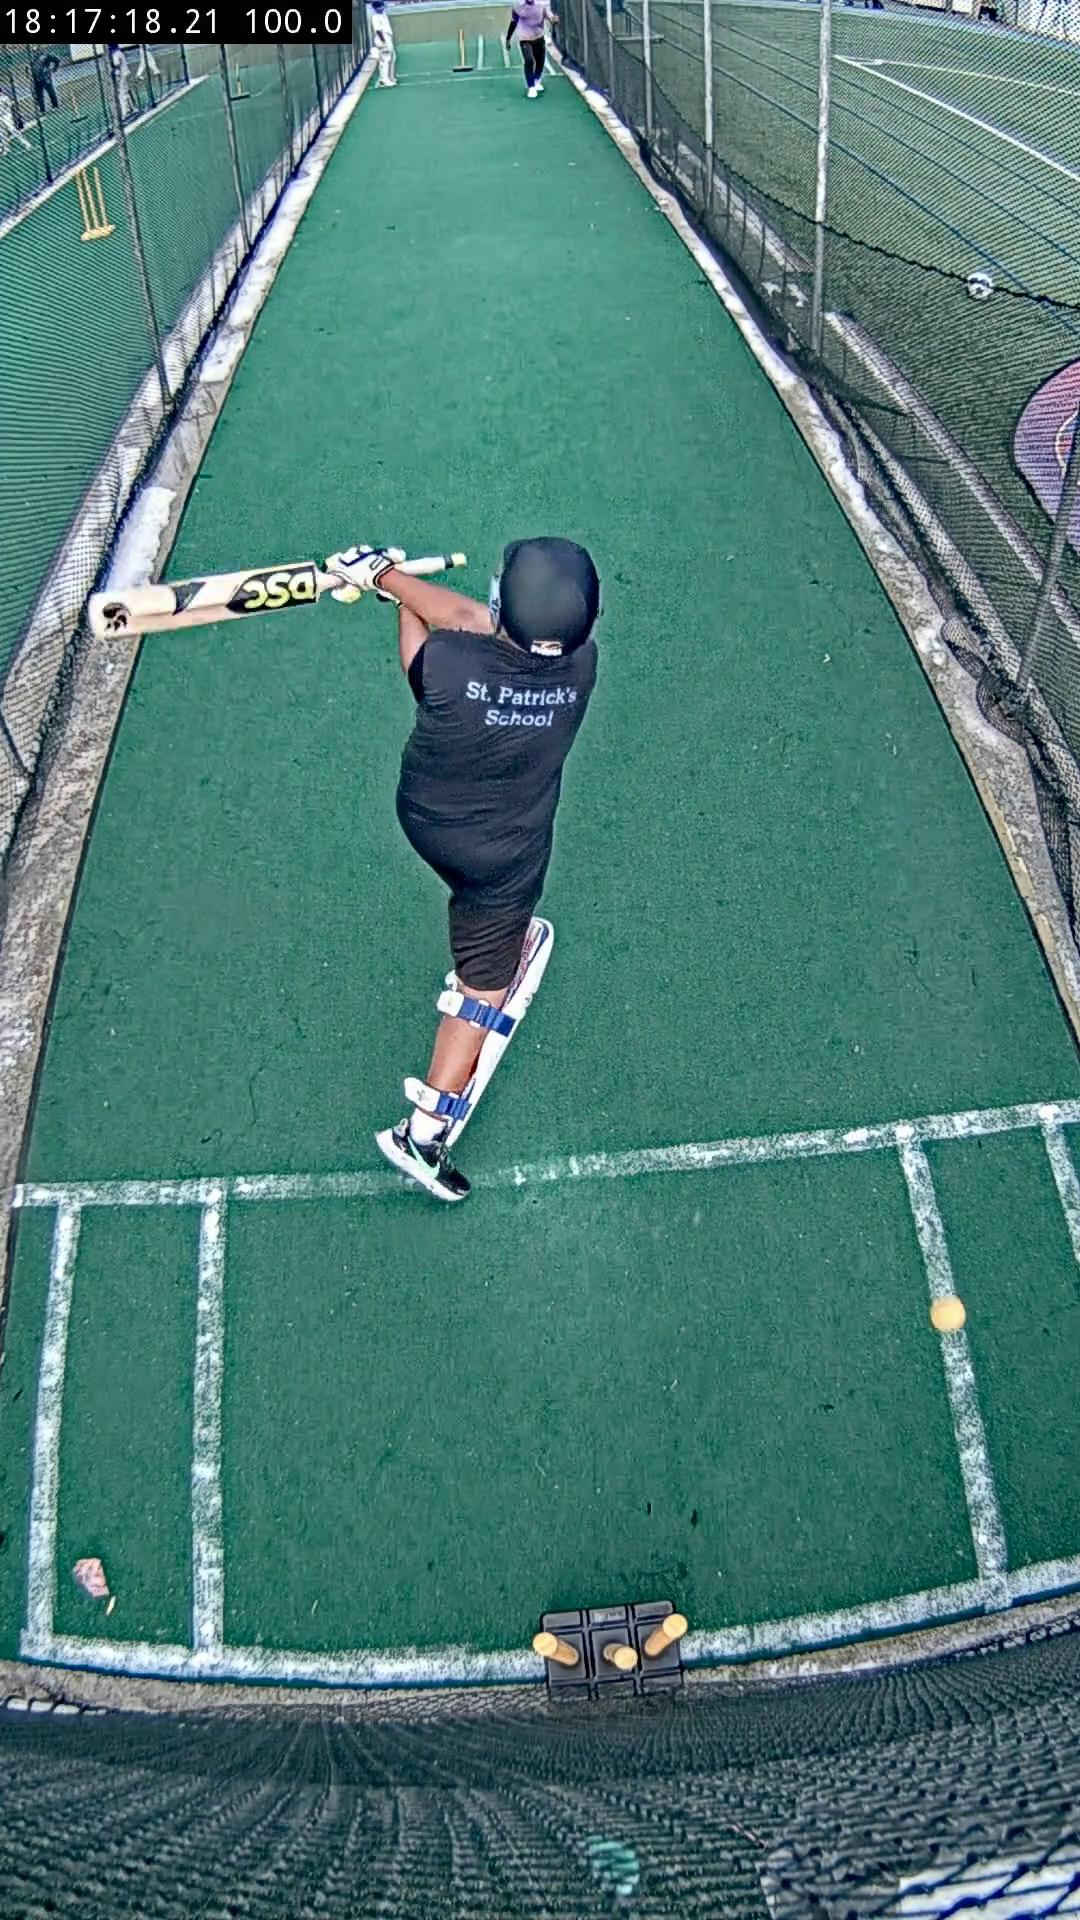ball: (930, 1294, 968, 1333)
bat: (86, 563, 342, 637), (401, 553, 468, 578)
gloves: (326, 543, 397, 604)
helmet: (498, 537, 600, 657)
pads: (443, 915, 555, 1146)
stumps: (533, 1601, 686, 1697)
